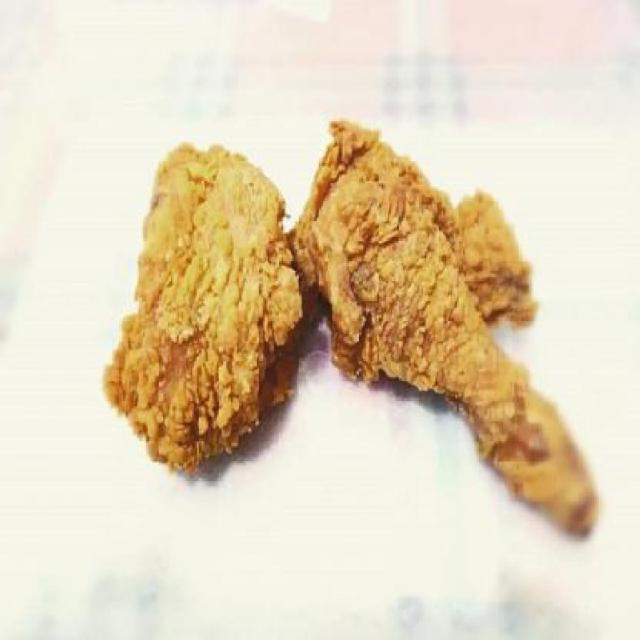Chicken -Fried Chicken-: (284, 120, 600, 542), (102, 144, 310, 477)
